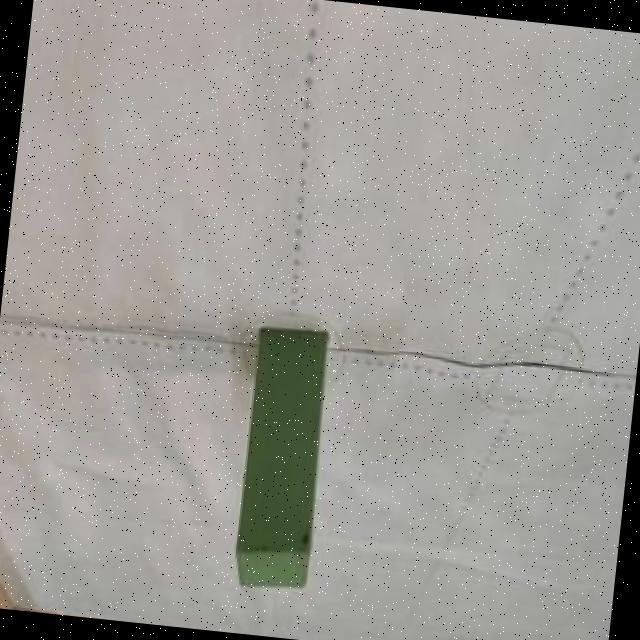greenbox: (228, 327, 334, 590)
